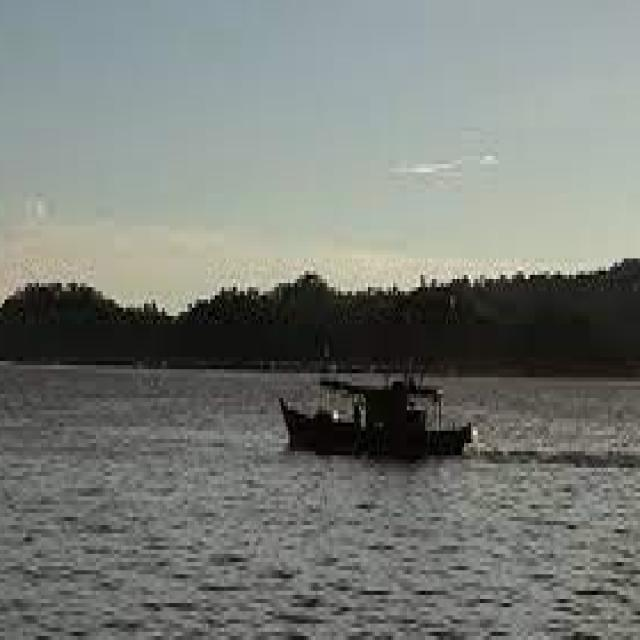fishing boat: (282, 358, 479, 451)
